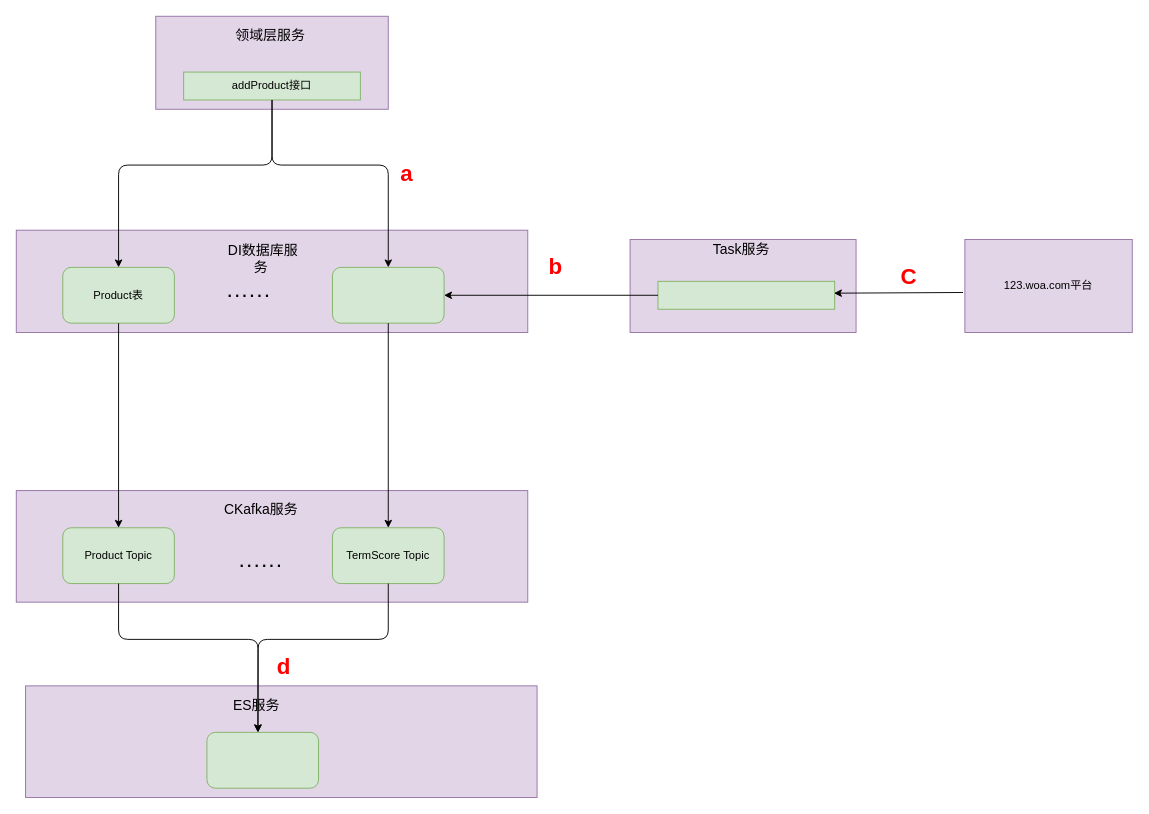
Image size: 1149x814. Some labels were removed from this diagram. The box of each missing label's shape, as (x1, y1, x2, y2) in pixels:
retrieval 索引: (206, 731, 319, 788)
TermScore表: (332, 266, 444, 323)
打标接口: (657, 280, 835, 309)
